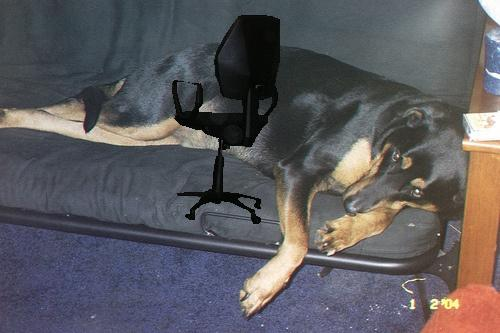tampered: (173, 16, 280, 224)
